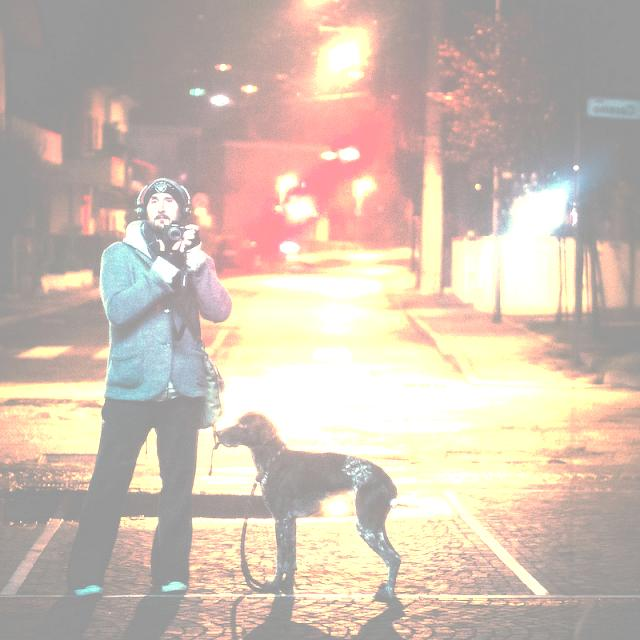Dog: (220, 392, 448, 599)
